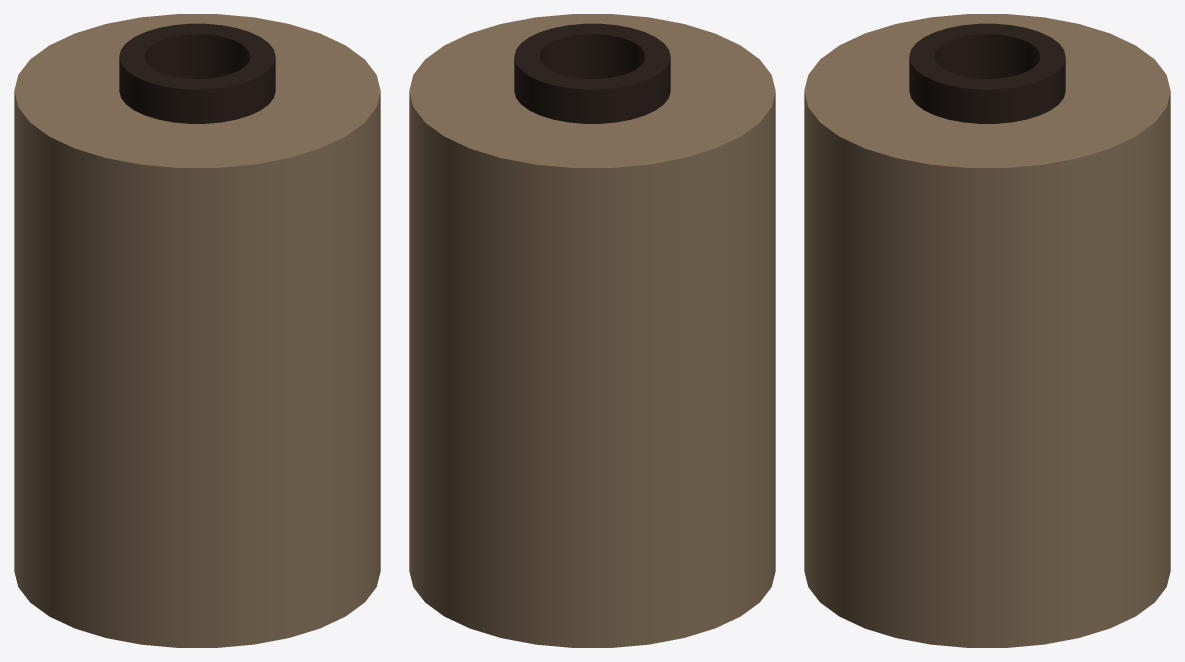
The model's file is F_BeThread_01.fbx.
The picture shows the model from 3 angles, left to right: view 1: azimuth 30°, elevation 25°; view 2: azimuth 150°, elevation 25°; view 3: azimuth 270°, elevation 25°; orthographic projection.
Parts seen in each view (by area): view 1: F_LBrownThread_01; view 2: F_LBrownThread_01; view 3: F_LBrownThread_01.
Part boxes in pixels (x1,y1,x2,y2): F_LBrownThread_01: [14, 14, 380, 647]; F_LBrownThread_01: [409, 14, 775, 647]; F_LBrownThread_01: [804, 14, 1170, 647].
Bounding box in the file's own units: 8.07 × 13.41 × 8.12.
